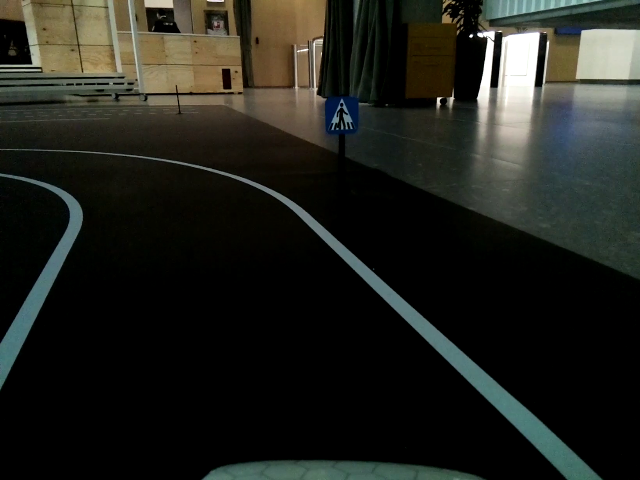pedestrians: (325, 98, 358, 133)
